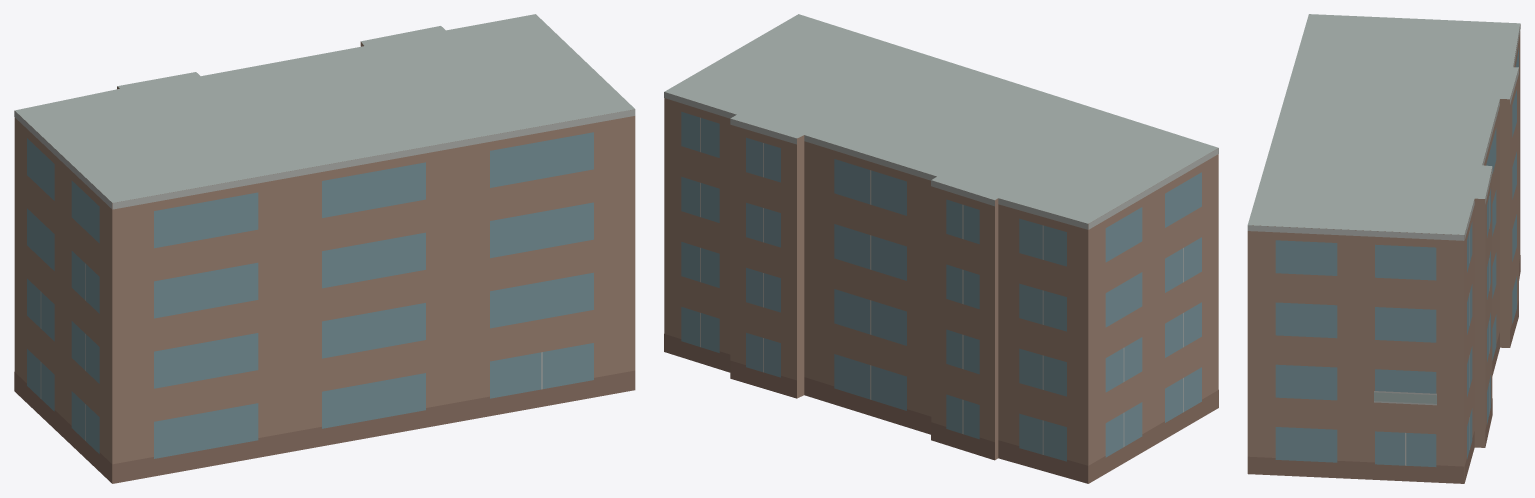
Rendered from survey-upis-32816667.glb.
The picture shows the model from 3 angles, left to right: view 1: azimuth 30°, elevation 25°; view 2: azimuth 150°, elevation 25°; view 3: azimuth 270°, elevation 25°; orthographic projection. The views are drawn at different scales.
Visible parts, largest first — view 1: survey-upis-32816667.tmp; view 2: survey-upis-32816667.tmp; view 3: survey-upis-32816667.tmp.
Part boxes in pixels (left/top/right/bottom): survey-upis-32816667.tmp: left=14, top=14, right=635, bottom=483; survey-upis-32816667.tmp: left=664, top=14, right=1218, bottom=483; survey-upis-32816667.tmp: left=1247, top=14, right=1520, bottom=483.
Bounding box in the file's own units: 19.82 × 10.4 × 10.34.
